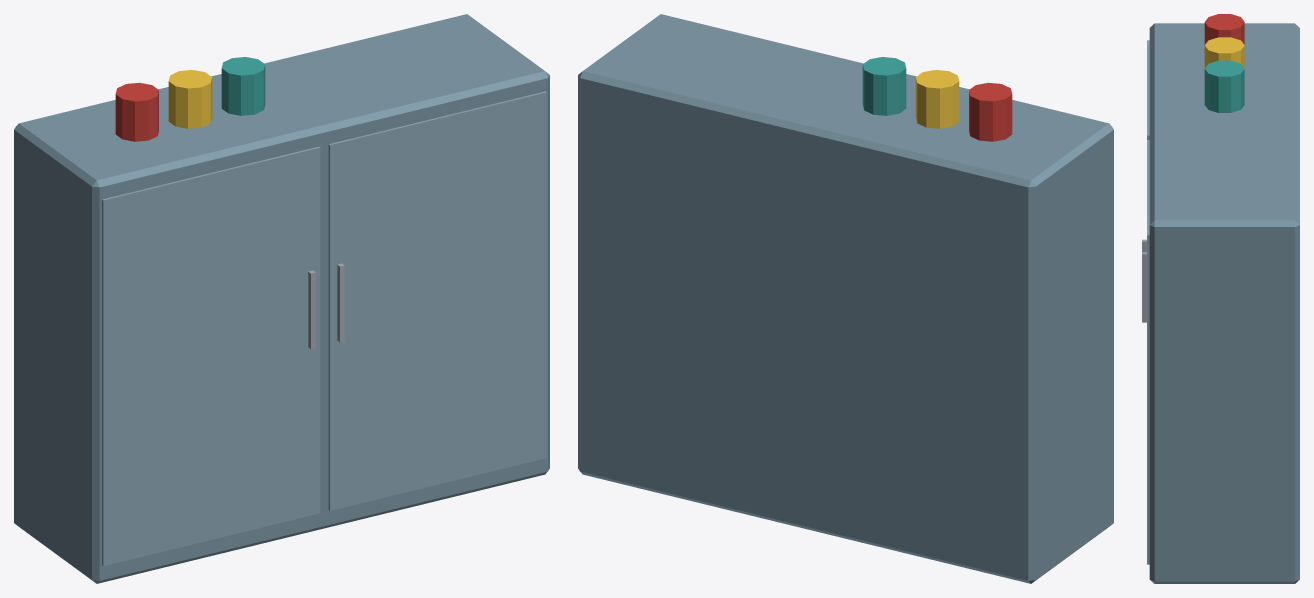
The model's file is tall_cabinet.glb.
The picture shows the model from 3 angles, left to right: view 1: azimuth 30°, elevation 25°; view 2: azimuth 150°, elevation 25°; view 3: azimuth 270°, elevation 25°; orthographic projection. The views are drawn at different scales.
Parts seen in each view (by area): view 1: tall_cabinet_mesh; view 2: tall_cabinet_mesh; view 3: tall_cabinet_mesh.
Boxes of the visible parts, x1,y1,x2,y2 form: tall_cabinet_mesh: [14, 14, 549, 583]; tall_cabinet_mesh: [578, 14, 1113, 583]; tall_cabinet_mesh: [1142, 14, 1299, 583].
Bounding box in the file's own units: 1.9 × 1.76 × 0.63.
